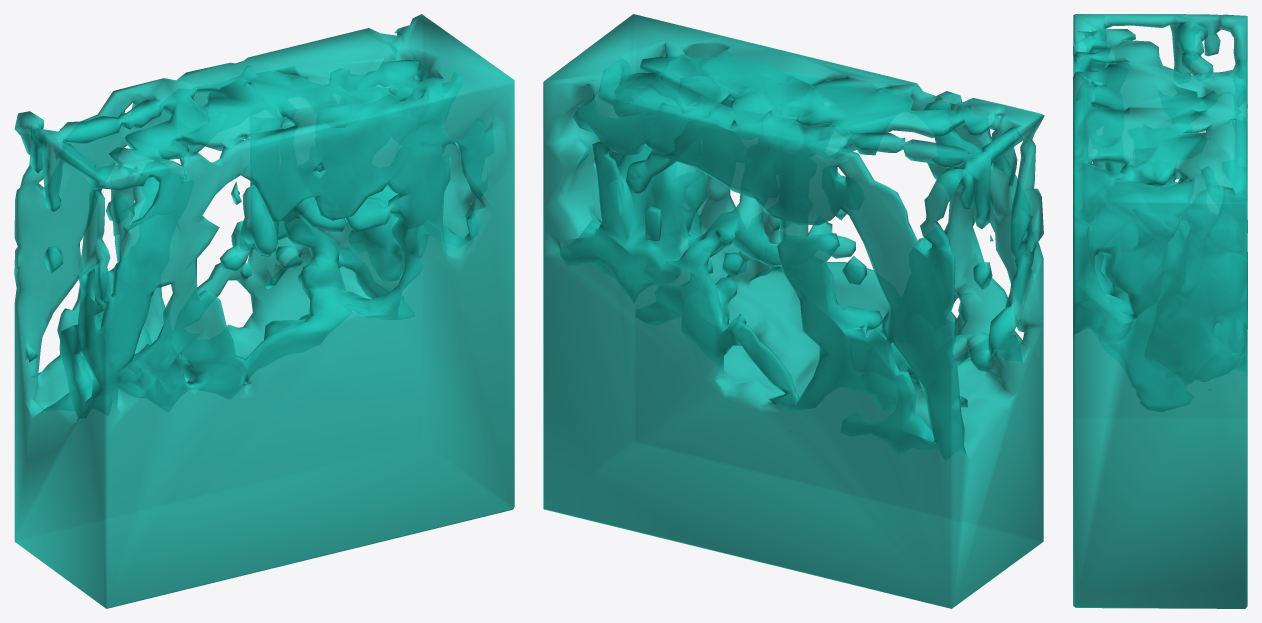
The picture shows the model from 3 angles, left to right: view 1: azimuth 30°, elevation 25°; view 2: azimuth 150°, elevation 25°; view 3: azimuth 270°, elevation 25°; orthographic projection. The views are drawn at different scales.
Visible parts, largest first — view 1: Liquid_Domain; view 2: Liquid_Domain; view 3: Liquid_Domain.
Boxes of the visible parts, bbox=[...] form: Liquid_Domain: bbox=[14, 14, 514, 608]; Liquid_Domain: bbox=[543, 14, 1044, 608]; Liquid_Domain: bbox=[1073, 14, 1247, 608].
Size of the model in its own units: 884 by 884 by 345.
